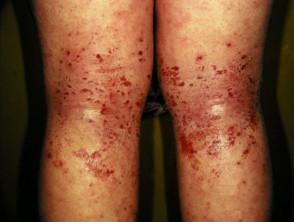Eczema: (175, 129, 202, 161), (240, 89, 261, 127), (73, 143, 105, 166), (108, 109, 135, 136), (164, 58, 185, 91), (231, 47, 253, 78), (189, 48, 209, 82), (112, 196, 138, 222), (224, 119, 244, 150), (96, 125, 124, 147), (176, 103, 198, 130), (50, 150, 71, 178), (51, 99, 71, 128), (238, 131, 257, 161), (204, 135, 227, 159), (75, 79, 101, 100), (52, 81, 81, 99), (198, 109, 221, 131), (59, 43, 76, 72), (92, 96, 114, 118), (89, 46, 109, 70), (86, 161, 115, 177), (163, 92, 183, 115), (119, 96, 146, 113), (219, 82, 242, 101), (210, 58, 228, 81), (197, 89, 225, 103), (130, 25, 149, 45), (116, 73, 135, 92), (205, 163, 225, 181), (220, 37, 237, 56), (232, 176, 249, 195), (131, 48, 147, 68)
